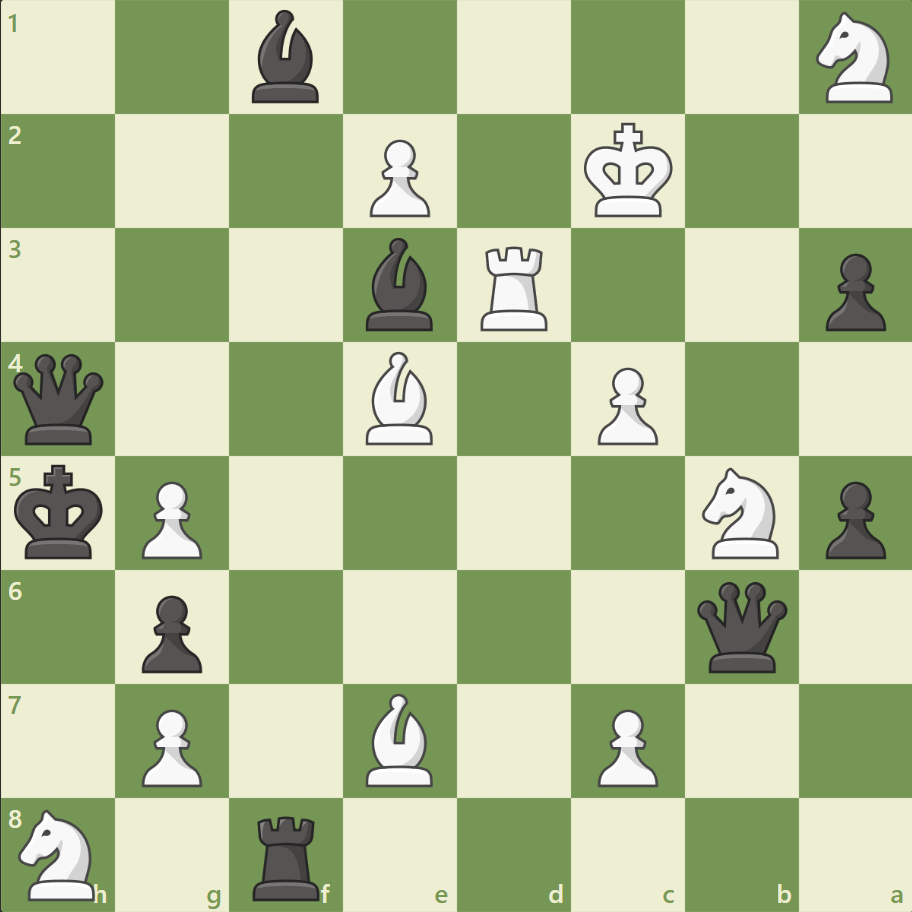B: (358, 687, 442, 790), (358, 347, 442, 449)
K: (579, 117, 679, 225)
N: (692, 461, 789, 564), (806, 7, 903, 110), (11, 802, 108, 904)
P: (133, 700, 208, 791), (133, 473, 208, 564), (588, 700, 662, 791), (588, 359, 662, 450), (361, 132, 435, 223)
R: (473, 239, 556, 336)
b: (358, 233, 442, 336), (244, 6, 328, 109)
k: (11, 458, 111, 566)
p: (133, 586, 208, 677), (815, 473, 889, 564), (815, 246, 889, 337)
q: (691, 576, 790, 676), (10, 349, 109, 449)
r: (246, 806, 329, 904)
